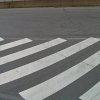Crosswalk: (10, 31, 99, 99)
